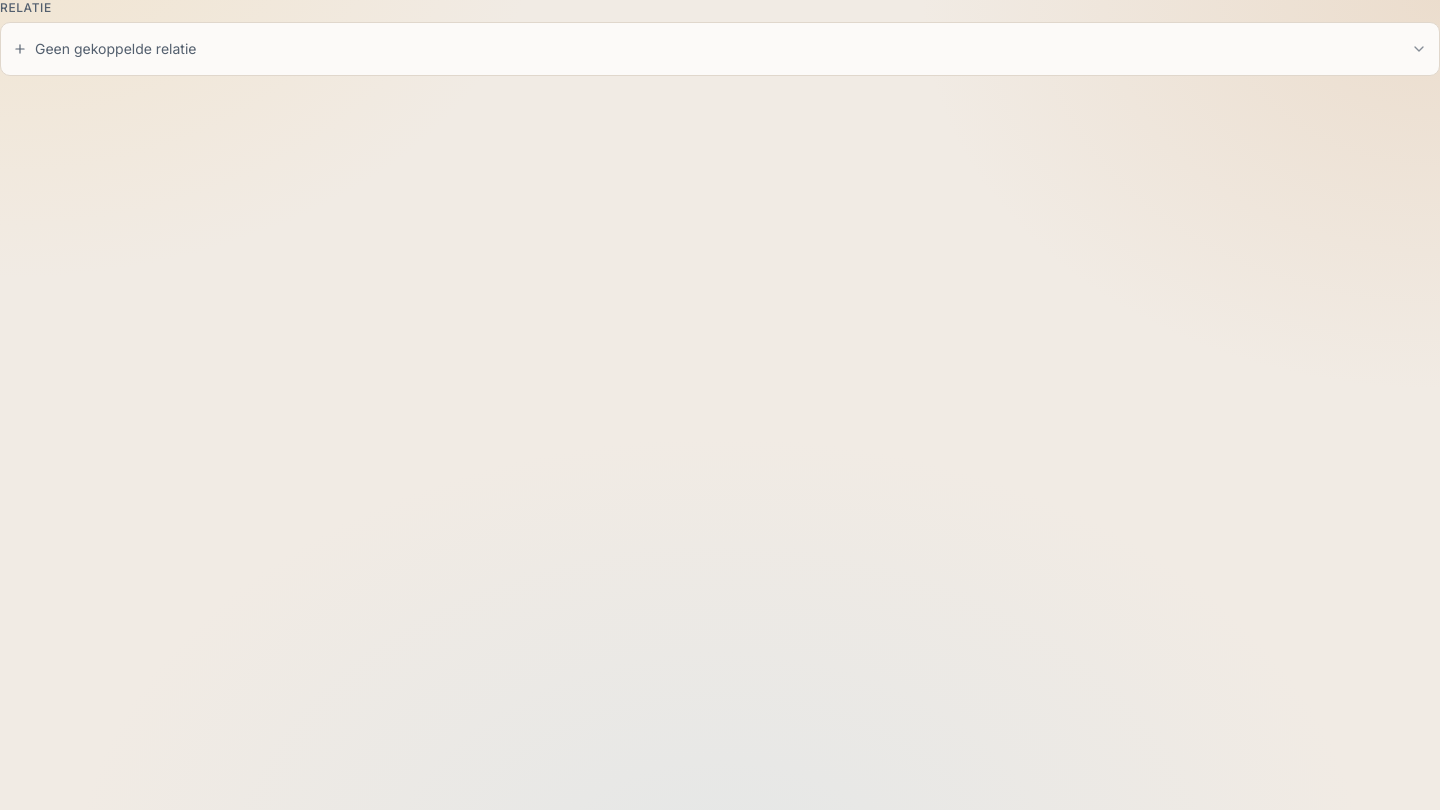
Scenario: Fase 1C-3 — PII-veilige selector-labels (regressie) › OfferFormDialog relatie-selector: naam/bedrijf zichtbaar, e-mail/telefoon niet
Click the button with aria-label "Kiezen": (116, 48) [5,27,1435,71]
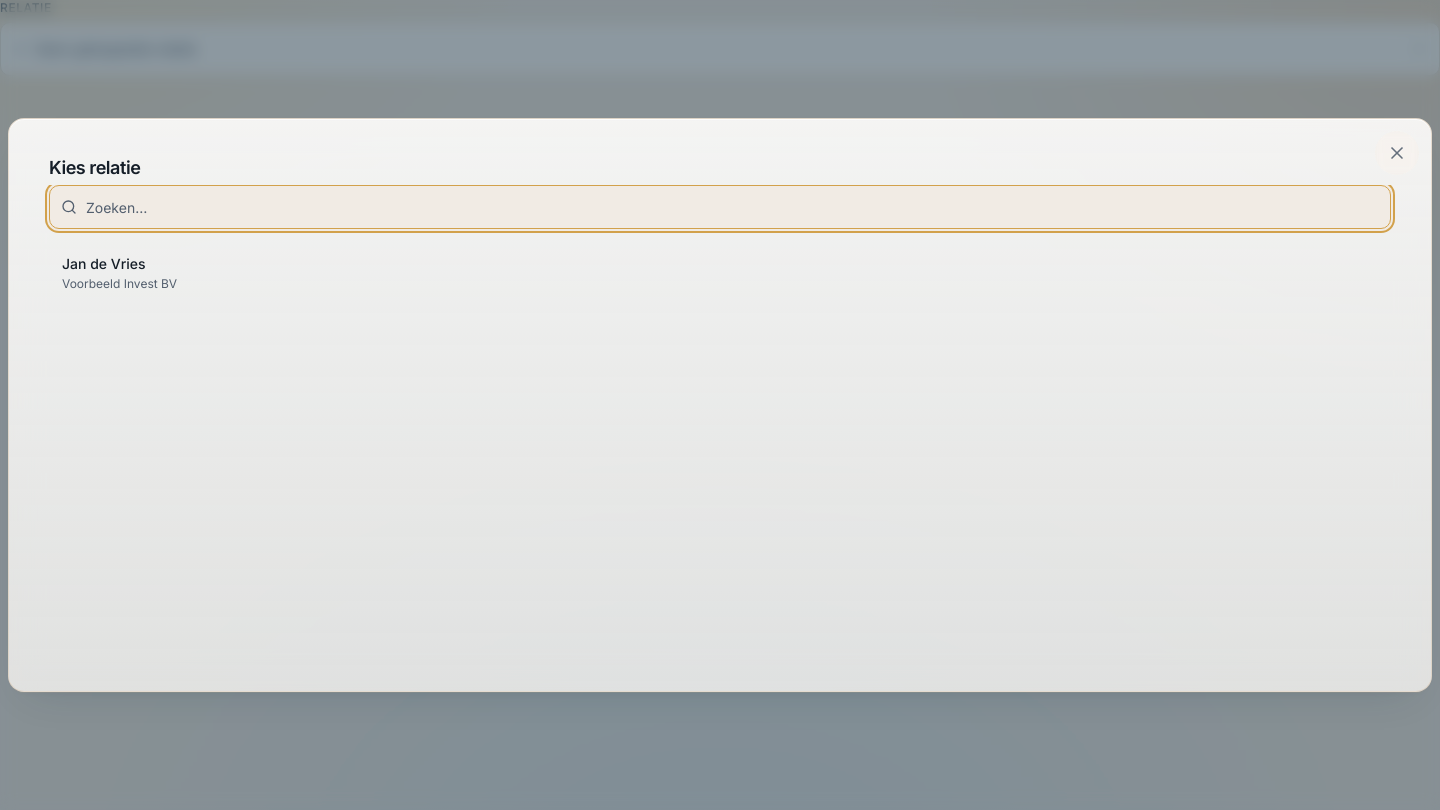
Now the text "Jan de Vries" is shown, box [62,255,146,272]
Now the text "Voorbeeld Invest BV" is shown, box [62,276,177,291]
